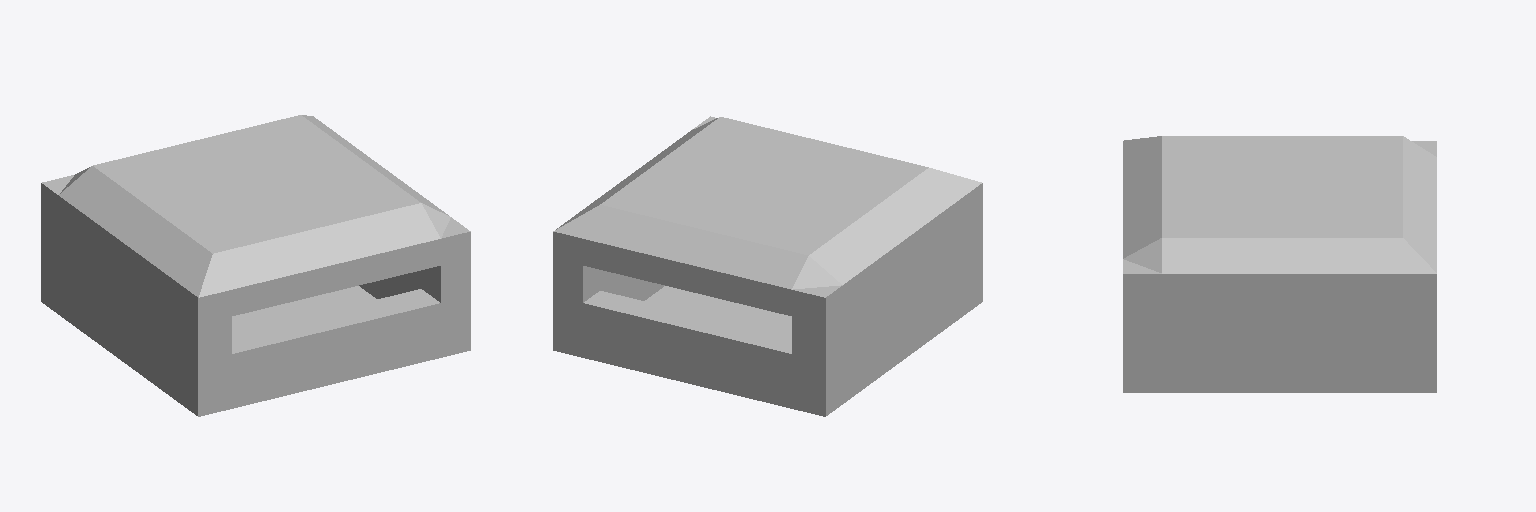
Rendered from testmesh.obj.
3 renders of one model, left to right at view 1: azimuth 30°, elevation 25°; view 2: azimuth 150°, elevation 25°; view 3: azimuth 270°, elevation 25°, orthographic.
Parts seen in each view (by area): view 1: Cube; view 2: Cube; view 3: Cube.
Part boxes in pixels (x1,y1,x2,y2): Cube: (41, 115, 470, 416); Cube: (553, 116, 982, 416); Cube: (1123, 136, 1436, 392).
Bounding box in the file's own units: 12 × 5.92 × 12.